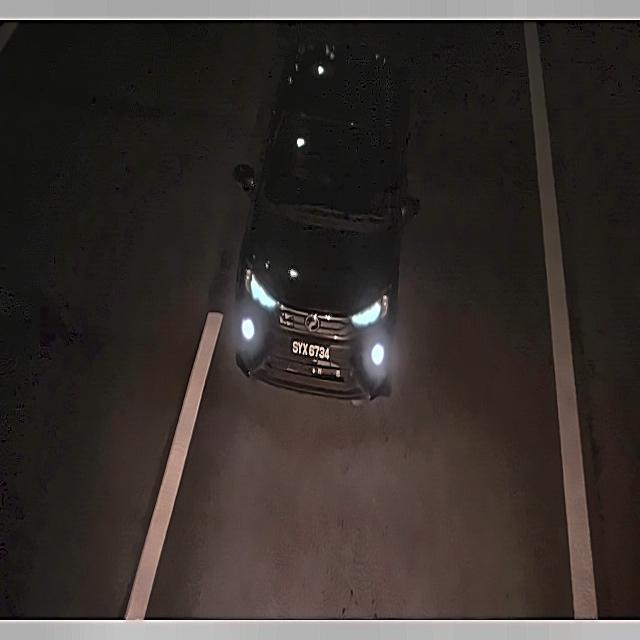car: (288, 334, 334, 364)
